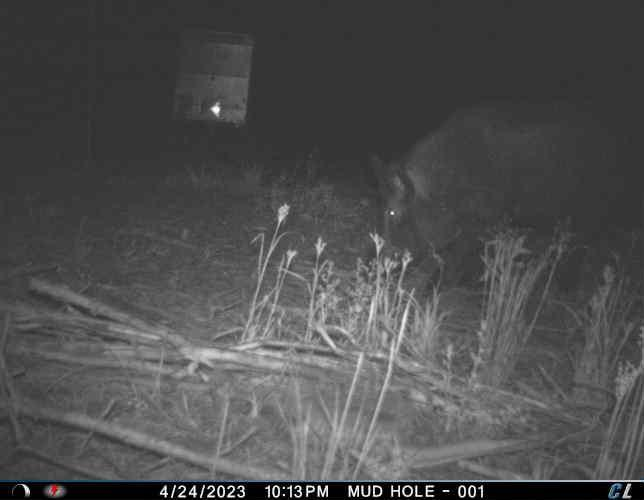Hog: (352, 96, 621, 289)
